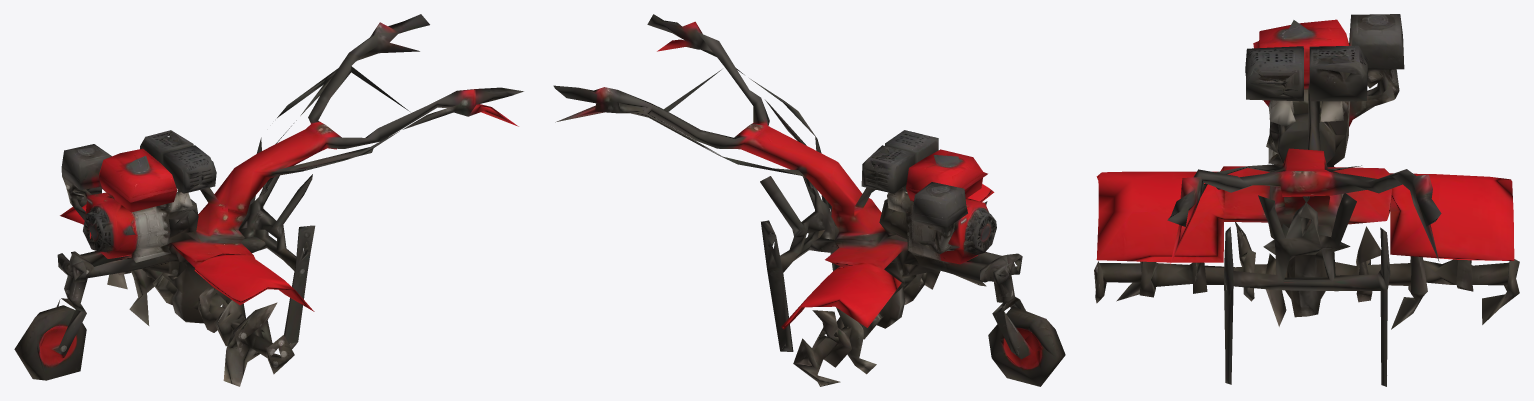
Rendered from motor-capa.glb.
3 views of the same model, side by side, from view 1: azimuth 30°, elevation 25°; view 2: azimuth 150°, elevation 25°; view 3: azimuth 270°, elevation 25° (orthographic). The views are drawn at different scales.
Parts seen in each view (by area): view 1: tripo_node_3017e4ff-4746-478b-a4a0-dfc9b349edb9; view 2: tripo_node_3017e4ff-4746-478b-a4a0-dfc9b349edb9; view 3: tripo_node_3017e4ff-4746-478b-a4a0-dfc9b349edb9.
Part boxes in pixels (x1=…): tripo_node_3017e4ff-4746-478b-a4a0-dfc9b349edb9: x1=14, y1=14, x2=523, y2=386; tripo_node_3017e4ff-4746-478b-a4a0-dfc9b349edb9: x1=553, y1=14, x2=1065, y2=386; tripo_node_3017e4ff-4746-478b-a4a0-dfc9b349edb9: x1=1094, y1=14, x2=1519, y2=386.
Bounding box in the file's own units: 0.978 × 0.4811 × 0.5837.
1 material, 1 textured.
